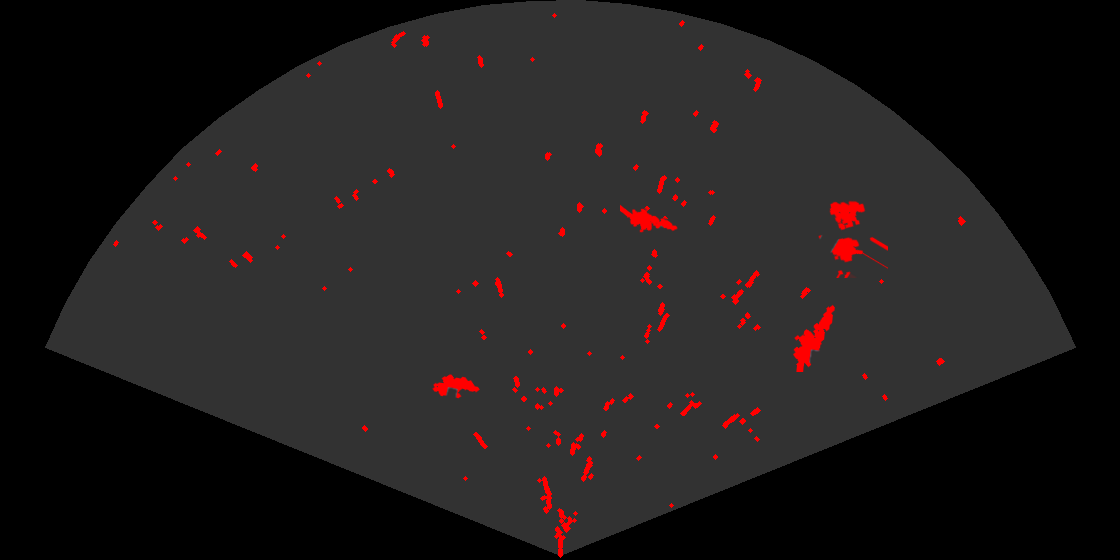AUV: (431, 373, 481, 400)
cage: (817, 199, 888, 278)
frogman: (792, 303, 836, 372), (620, 203, 679, 234)
